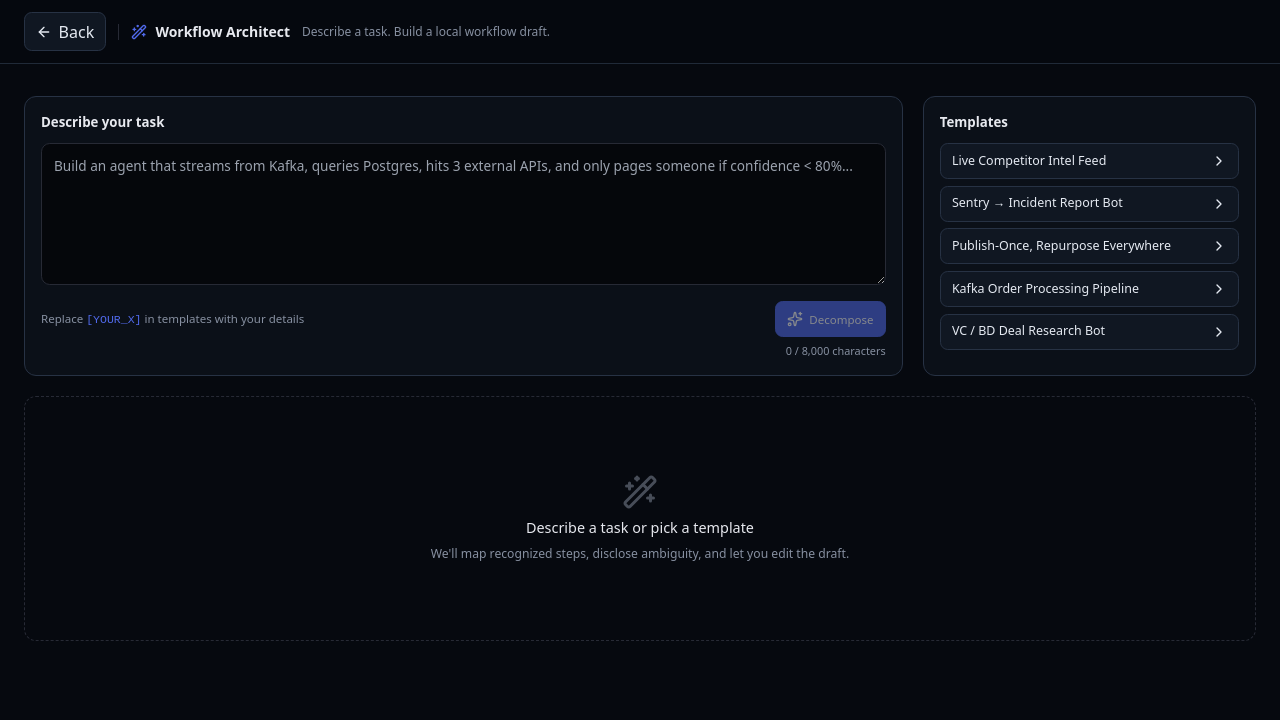
Test: Workflow Architect local component journey › shows truthful copy and keeps the exact template prompt
This screenshot has width=1280, height=720.
Click the button "Live Competitor Intel Feed". click: (1089, 161)
box: [940,143,1239,179]
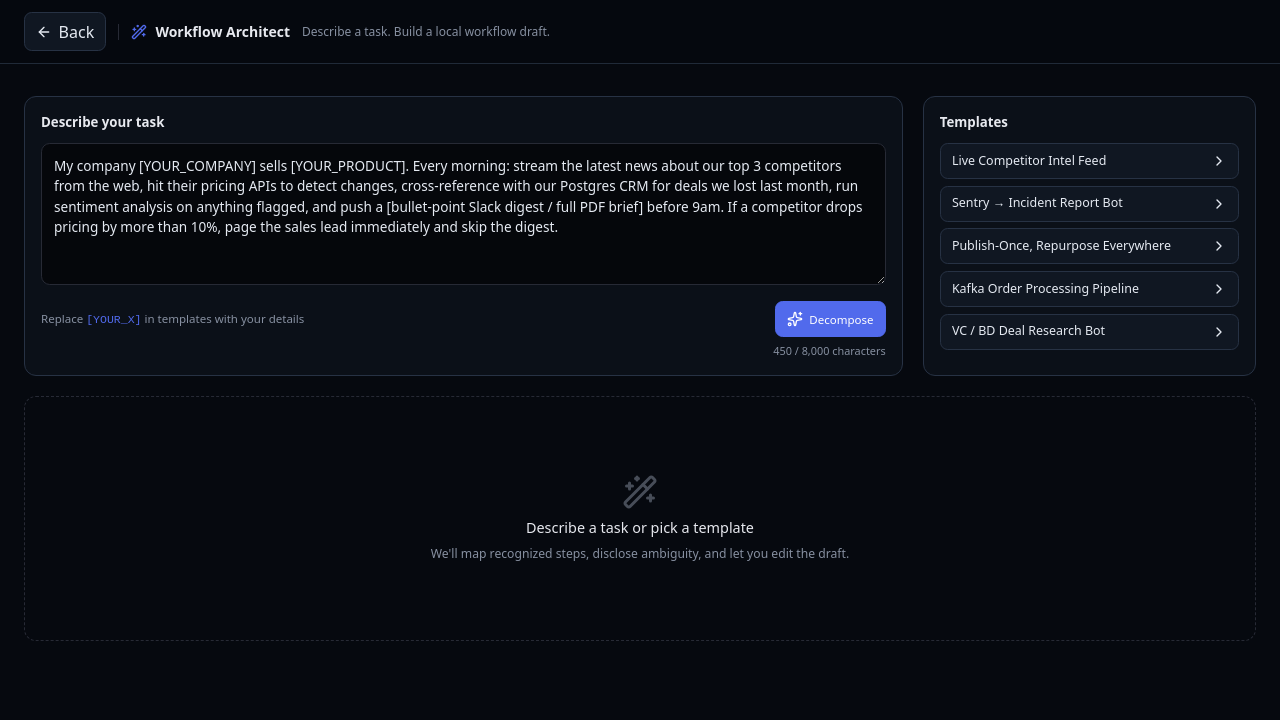
Expected: the text box with id "architect-description" holds "My company [YOUR_COMPANY] sells [YOUR_PRODUCT]. Every morning: stream the latest news about our top 3 competitors from the web, hit their pricing APIs to detect", [41,143,886,285]
